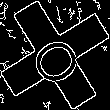O_NE: (22, 23, 88, 87)
